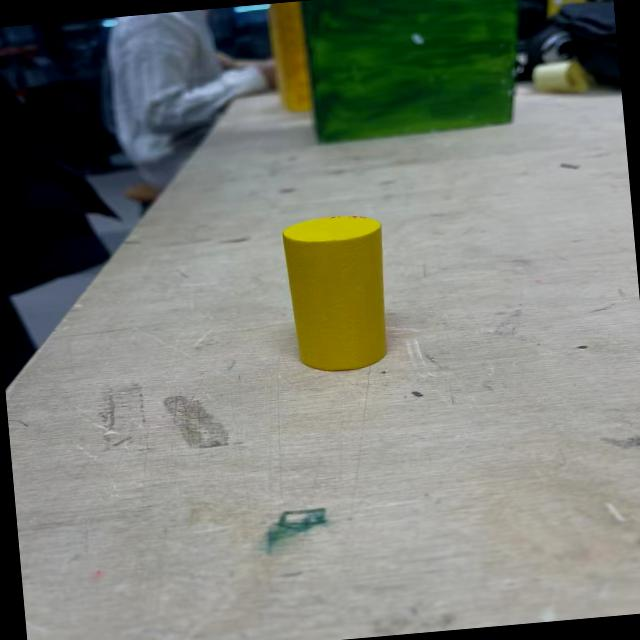yellow_cylinder: (281, 211, 394, 375)
